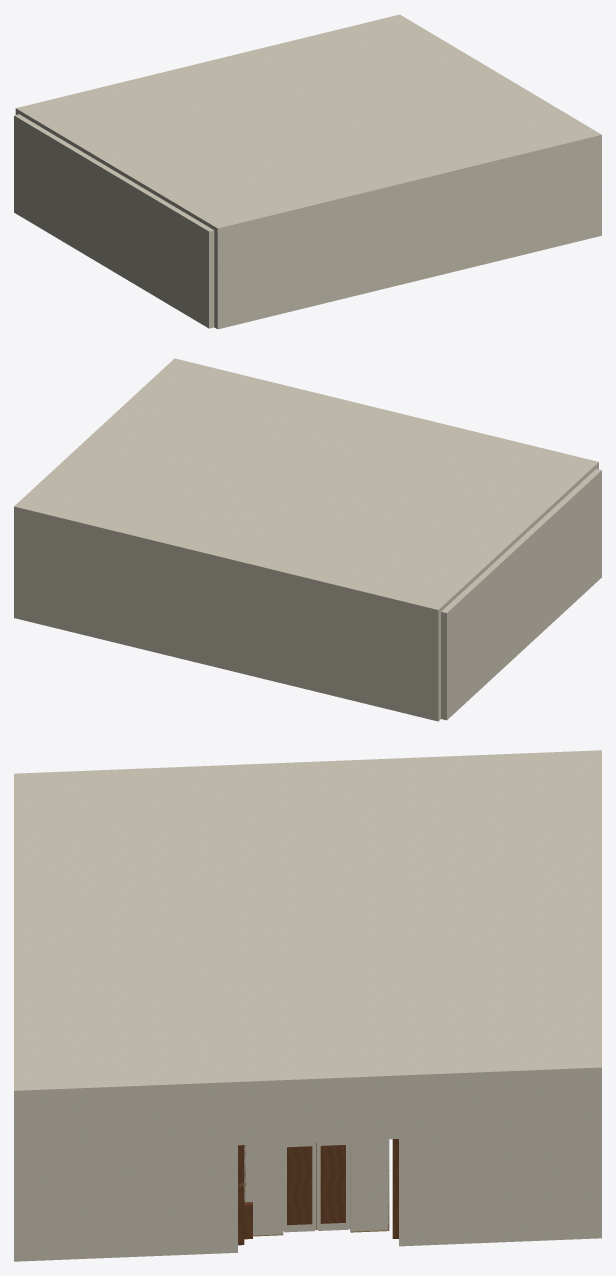
3 views of the same model, one above another, from view 1: azimuth 30°, elevation 25°; view 2: azimuth 150°, elevation 25°; view 3: azimuth 270°, elevation 25° (orthographic). The views are drawn at different scales.
Visible parts, largest first — view 1: PremiumPressureClosure, AftPartyWall, HeldFrontageOpaqueEnclosure, InnerAftPartyReturn; view 2: PremiumPressureClosure, ForePartyWall, HeldFrontageOpaqueEnclosure, InnerForePartyReturn; view 3: PremiumPressureClosure, InnerAftPartyReturn, InnerForePartyReturn, ArrivalHeader, PrivateEntry_01_ENTRY_PocketSkin_-1_1, PrivateEntry_01_ENTRY_PocketSkin_1_1, PrivateEntry_01_ENTRY_TimberInset_RIGHT_1, PrivateEntry_01_ENTRY_TimberInset_LEFT_1, ForePartyWall, AftPartyWall, PrivateEntry_01_ENTRY_MovingPanel_LEFT, PrivateEntry_01_ENTRY_MovingPanel_RIGHT (+2 smaller).
Part boxes in pixels (<box>): PremiumPressureClosure: <box>15,14,601,232</box>; AftPartyWall: <box>214,140,601,329</box>; HeldFrontageOpaqueEnclosure: <box>14,114,214,328</box>; InnerAftPartyReturn: <box>596,138,601,236</box>; PremiumPressureClosure: <box>14,358,598,614</box>; ForePartyWall: <box>14,511,440,721</box>; HeldFrontageOpaqueEnclosure: <box>441,469,601,720</box>; InnerForePartyReturn: <box>14,511,19,619</box>; PremiumPressureClosure: <box>14,750,601,1097</box>; InnerAftPartyReturn: <box>14,1088,237,1261</box>; InnerForePartyReturn: <box>399,1074,601,1246</box>; ArrivalHeader: <box>238,1082,398,1145</box>; PrivateEntry_01_ENTRY_PocketSkin_-1_1: <box>350,1139,389,1231</box>; PrivateEntry_01_ENTRY_PocketSkin_1_1: <box>244,1143,283,1235</box>; PrivateEntry_01_ENTRY_TimberInset_RIGHT_1: <box>287,1146,312,1225</box>; PrivateEntry_01_ENTRY_TimberInset_LEFT_1: <box>320,1145,345,1223</box>; ForePartyWall: <box>591,1074,601,1238</box>; AftPartyWall: <box>14,1097,24,1261</box>; PrivateEntry_01_ENTRY_MovingPanel_LEFT: <box>316,1141,349,1230</box>; PrivateEntry_01_ENTRY_MovingPanel_RIGHT: <box>283,1142,315,1232</box>.
Size of the model in its own units: 19.24 by 4.45 by 13.88.
158 materials, 152 textured.
